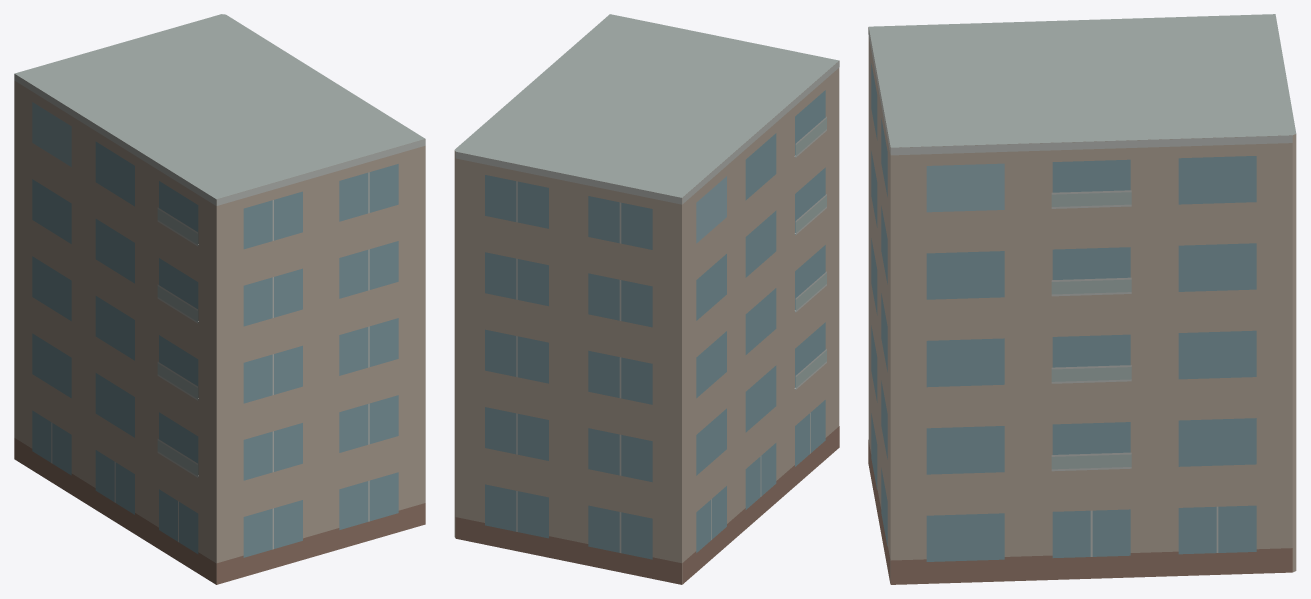
File: survey-upis-32755232.glb
3 renders of one model, left to right at view 1: azimuth 30°, elevation 25°; view 2: azimuth 150°, elevation 25°; view 3: azimuth 270°, elevation 25°, orthographic. The views are drawn at different scales.
Visible parts, largest first — view 1: survey-upis-32755232.tmp; view 2: survey-upis-32755232.tmp; view 3: survey-upis-32755232.tmp.
Part boxes in pixels (bbox=[...]): survey-upis-32755232.tmp: bbox=[14, 14, 425, 584]; survey-upis-32755232.tmp: bbox=[454, 14, 839, 584]; survey-upis-32755232.tmp: bbox=[868, 14, 1296, 584].
Size of the model in its own units: 9.09 by 13.85 by 12.29.
